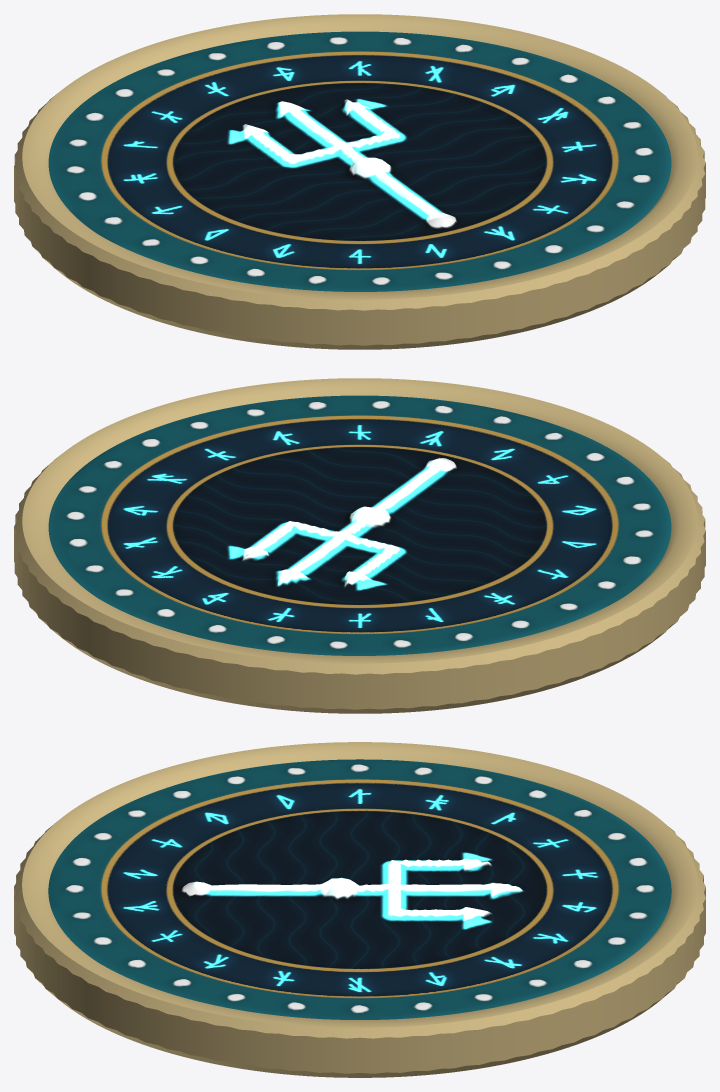
The model's file is coin_abyssal.glb.
The picture shows the model from 3 angles, top to bottom: view 1: azimuth 30°, elevation 25°; view 2: azimuth 150°, elevation 25°; view 3: azimuth 270°, elevation 25°; orthographic projection.
Visible parts, largest first — view 1: coin_abyssal; view 2: coin_abyssal; view 3: coin_abyssal.
Boxes of the visible parts, box(x1,y1,x2,y2) form: coin_abyssal: box(14, 14, 705, 349); coin_abyssal: box(14, 378, 705, 713); coin_abyssal: box(14, 742, 705, 1077).
Bounding box in the file's own units: 0.9992 × 0.084 × 0.9992.
Materials: 3 (2 with a texture image).
